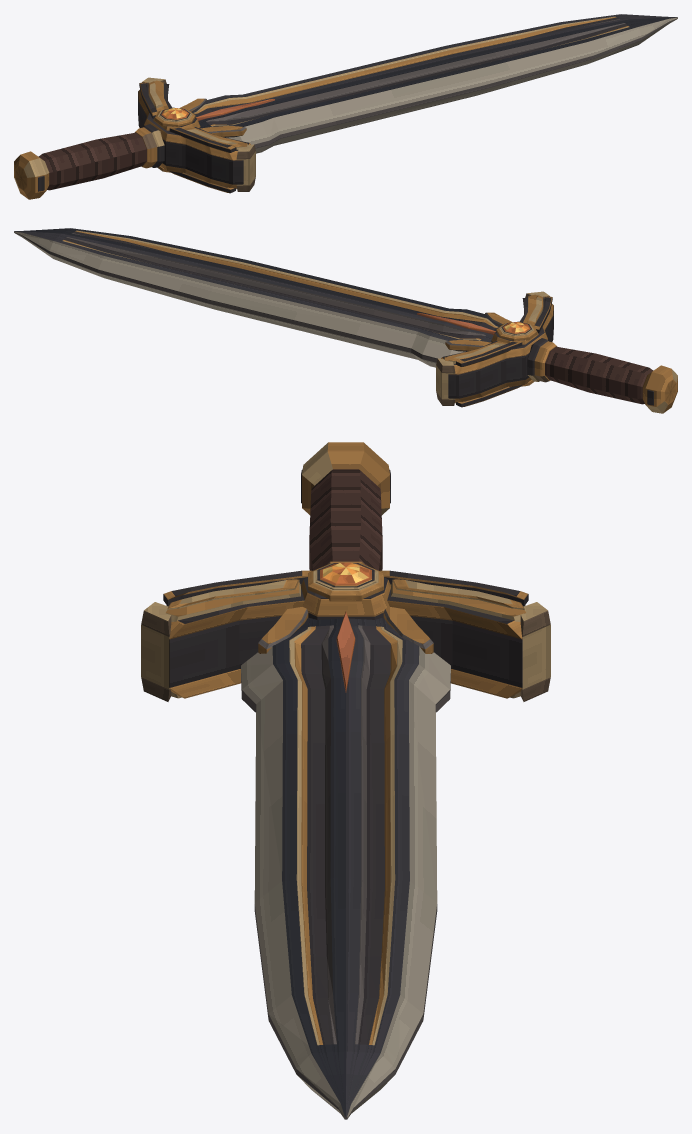
Rendered from bench_jindan_jinwu_sword_5.obj.
The picture shows the model from 3 angles, top to bottom: view 1: azimuth 30°, elevation 25°; view 2: azimuth 150°, elevation 25°; view 3: azimuth 270°, elevation 25°; orthographic projection. The views are drawn at different scales.
Visible parts, largest first — view 1: geometry; view 2: geometry; view 3: geometry.
Boxes of the visible parts, x1,y1,x2,y2 form: geometry: (14, 14, 677, 199); geometry: (14, 228, 677, 413); geometry: (141, 442, 550, 1119).
Bounding box in the file's own units: 0.75 × 0.0664 × 0.2027.
